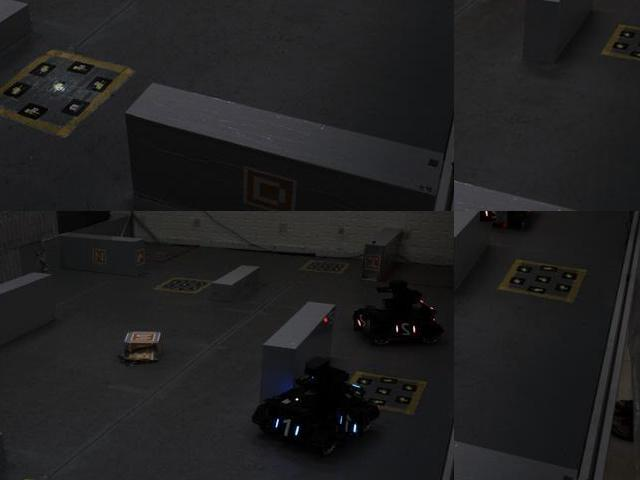armor: (336, 409, 364, 438), (274, 415, 303, 442), (393, 318, 421, 339), (480, 211, 509, 224), (354, 312, 371, 333)
